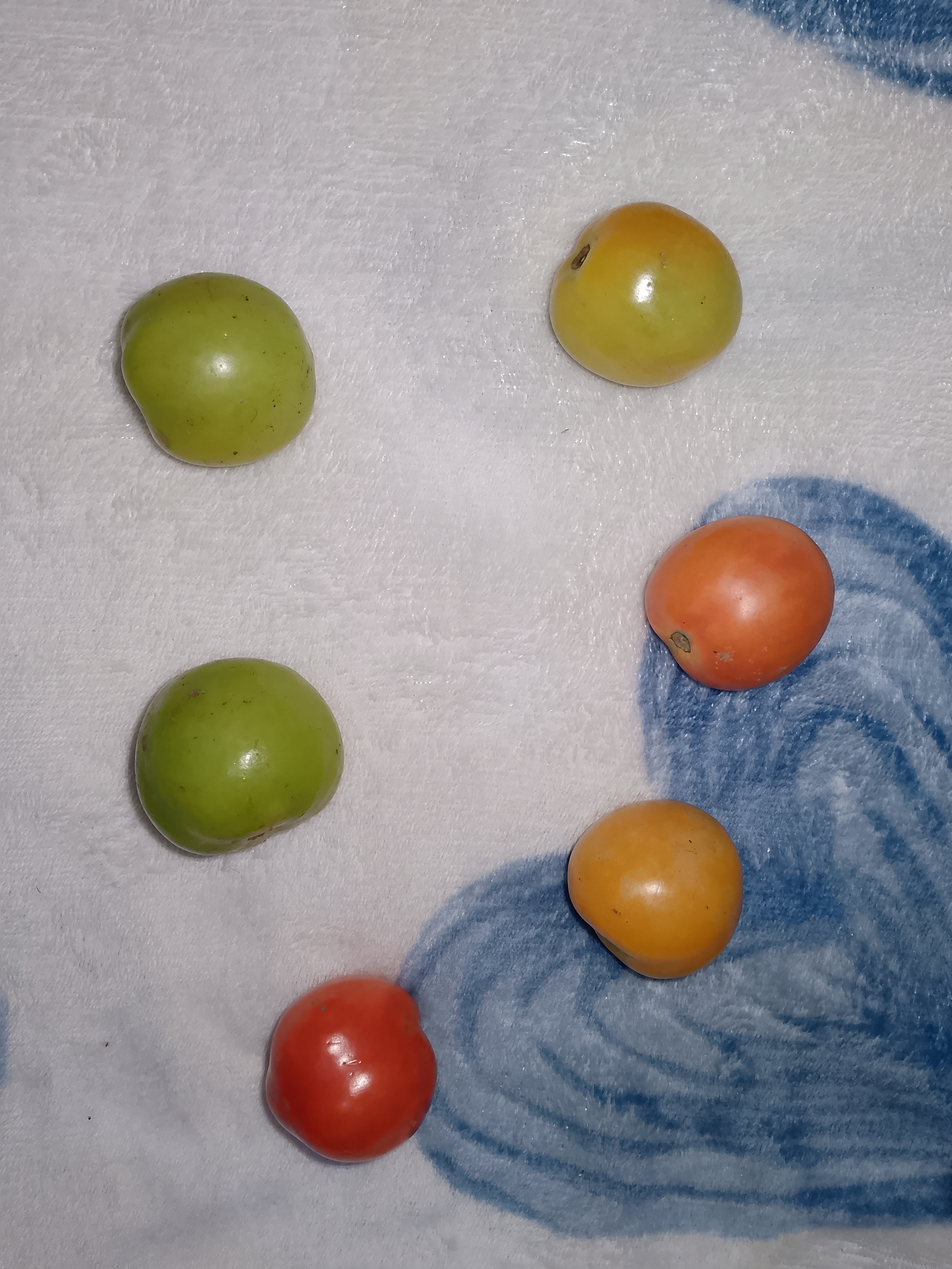Ripe: (602, 501, 875, 703), (545, 789, 810, 997), (236, 952, 480, 1176)
Unripe: (70, 223, 384, 490), (514, 187, 781, 410), (104, 631, 353, 869)
